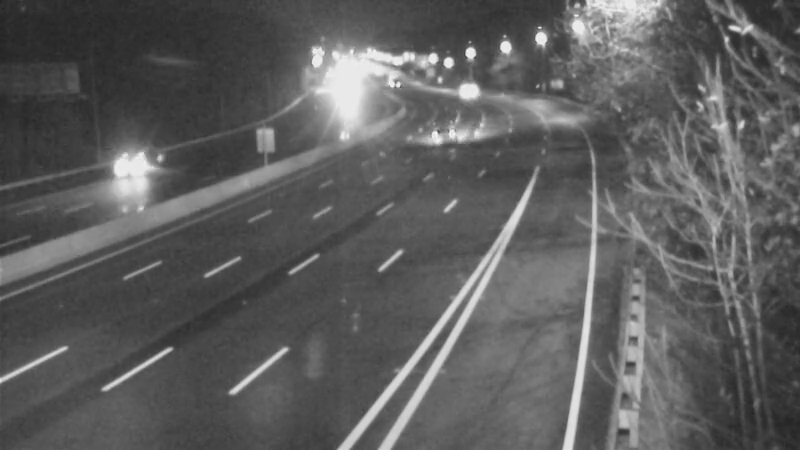vehicle: (97, 123, 177, 203), (367, 56, 417, 106), (437, 69, 487, 119), (419, 106, 469, 156)
